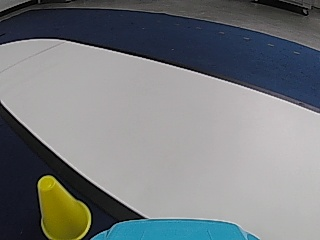cone: (37, 175, 90, 239)
